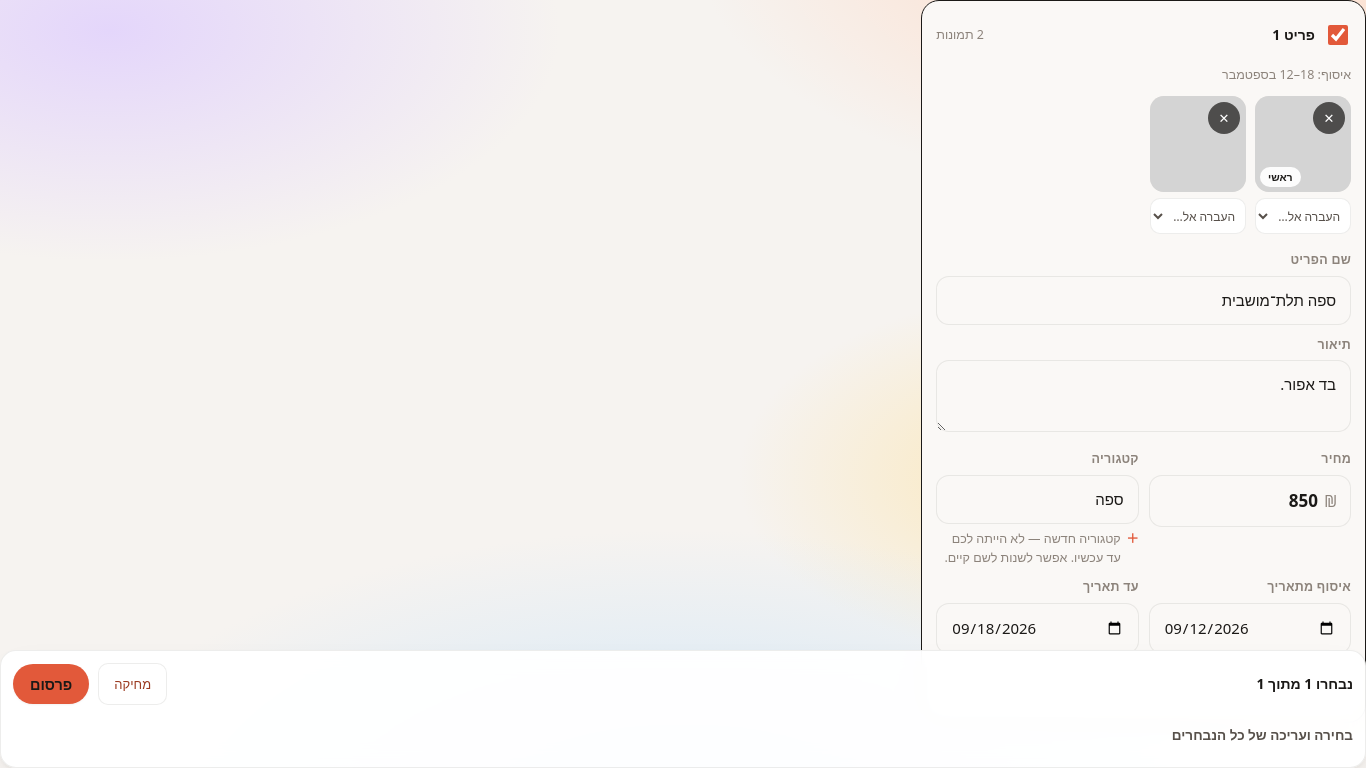
Test: the import review screen › stops flagging once the seller edits the field to a name they already have
Expected: the text "קטגוריה חדשה — לא הייתה לכם עד עכשיו. אפשר לשנות לשם קיים." is shown once, x1=936 y1=530 x2=1139 y2=567
Replace the text in the field labelled "קטגוריה" with "ריהוט": point(1037, 499) x1=936 y1=474 x2=1139 y2=524
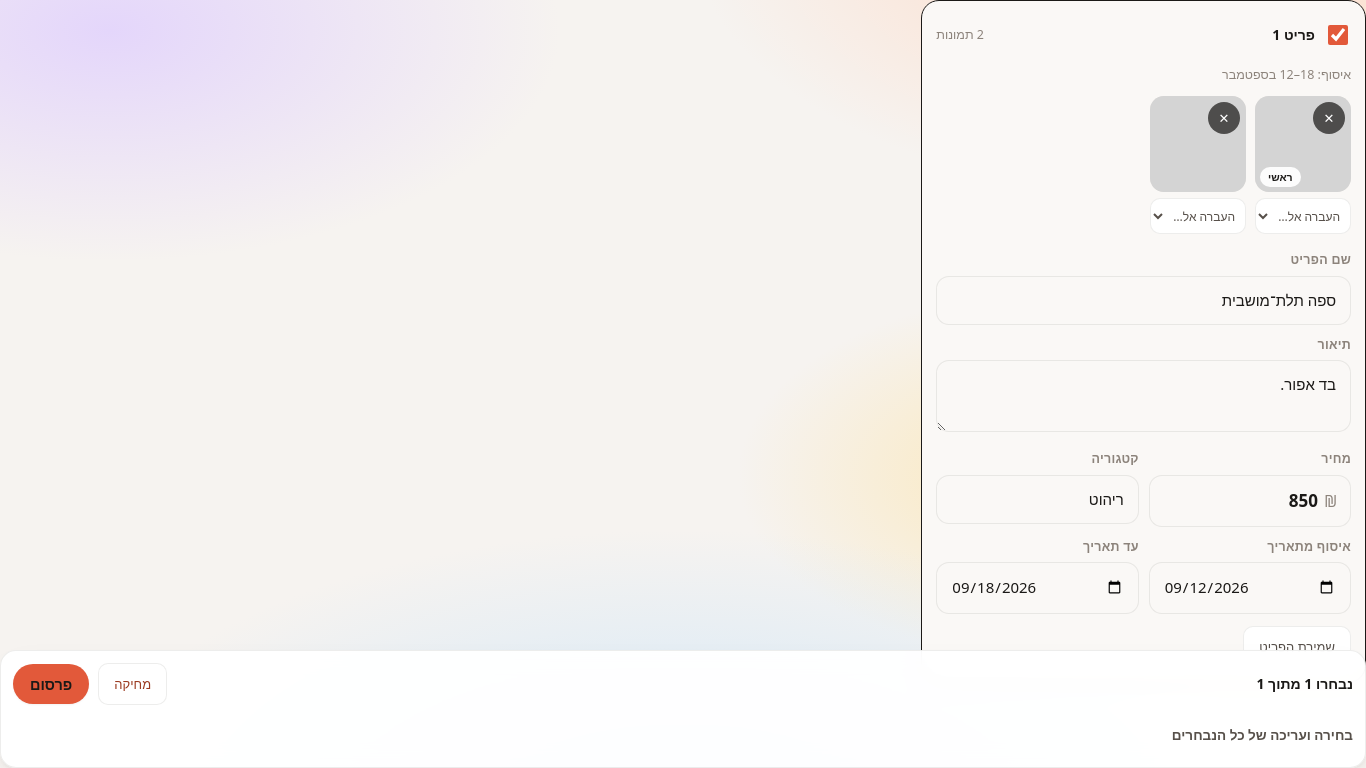
Expected: the text "קטגוריה חדשה" is gone
